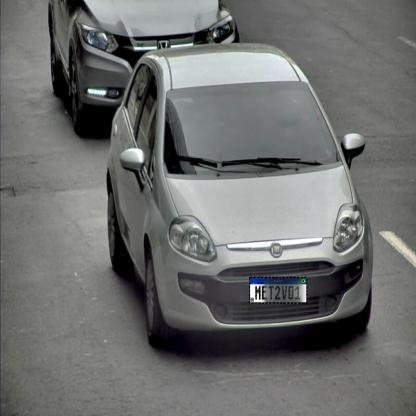PlacaM: (249, 276, 307, 304)
